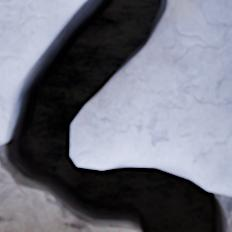broken_brick: (72, 0, 231, 196), (0, 0, 80, 145)
crack: (0, 0, 231, 231)
